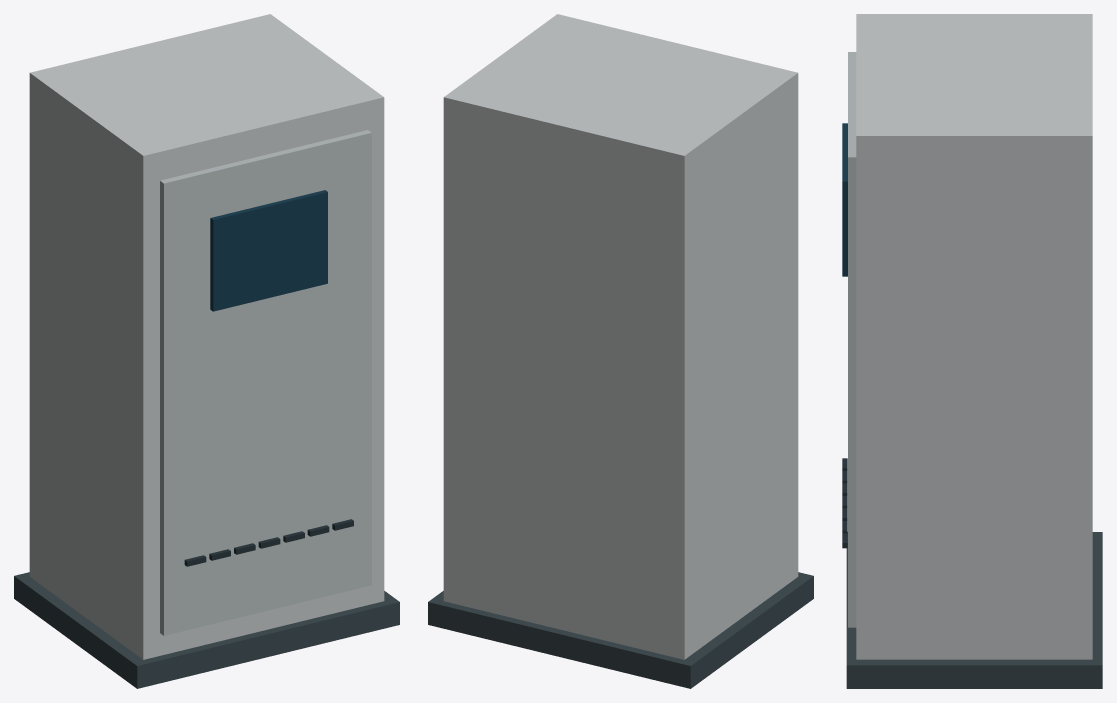
File: stlib-ele-ups-cabinet-v1.glb
3 renders of one model, left to right at view 1: azimuth 30°, elevation 25°; view 2: azimuth 150°, elevation 25°; view 3: azimuth 270°, elevation 25°, orthographic. The views are drawn at different scales.
Parts seen in each view (by area): view 1: UPS cabinet, Front door, Base plinth, Control panel; view 2: UPS cabinet, Base plinth; view 3: UPS cabinet, Base plinth, Front door, Control panel.
Boxes of the visible parts, x1=… form: UPS cabinet: x1=29, y1=14, x2=384, y2=659; Front door: x1=160, y1=130, x2=371, y2=635; Base plinth: x1=14, y1=572, x2=399, y2=688; Control panel: x1=210, y1=190, x2=327, y2=311; UPS cabinet: x1=443, y1=14, x2=798, y2=659; Base plinth: x1=428, y1=572, x2=813, y2=688; UPS cabinet: x1=856, y1=14, x2=1092, y2=659; Base plinth: x1=846, y1=532, x2=1102, y2=688; Front door: x1=848, y1=52, x2=856, y2=627; Control panel: x1=842, y1=123, x2=847, y2=276.
Size of the model in its own units: 0.96 by 1.84 by 0.793.
